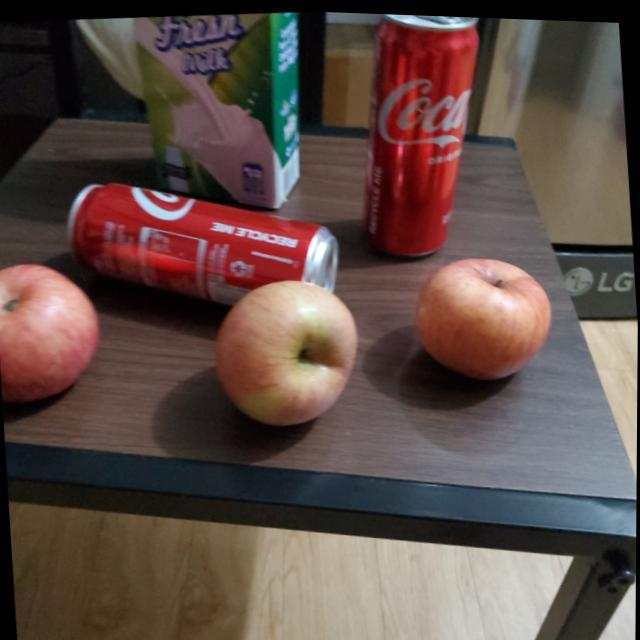apple: (210, 268, 363, 426), (412, 251, 558, 384), (0, 256, 102, 401)
coke: (61, 162, 343, 324), (348, 10, 493, 255)
milk: (129, 5, 314, 210)
